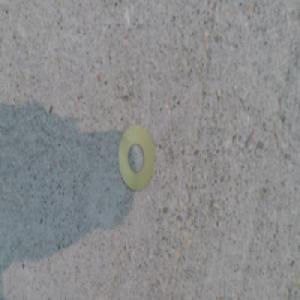Washer: (116, 120, 154, 190)
